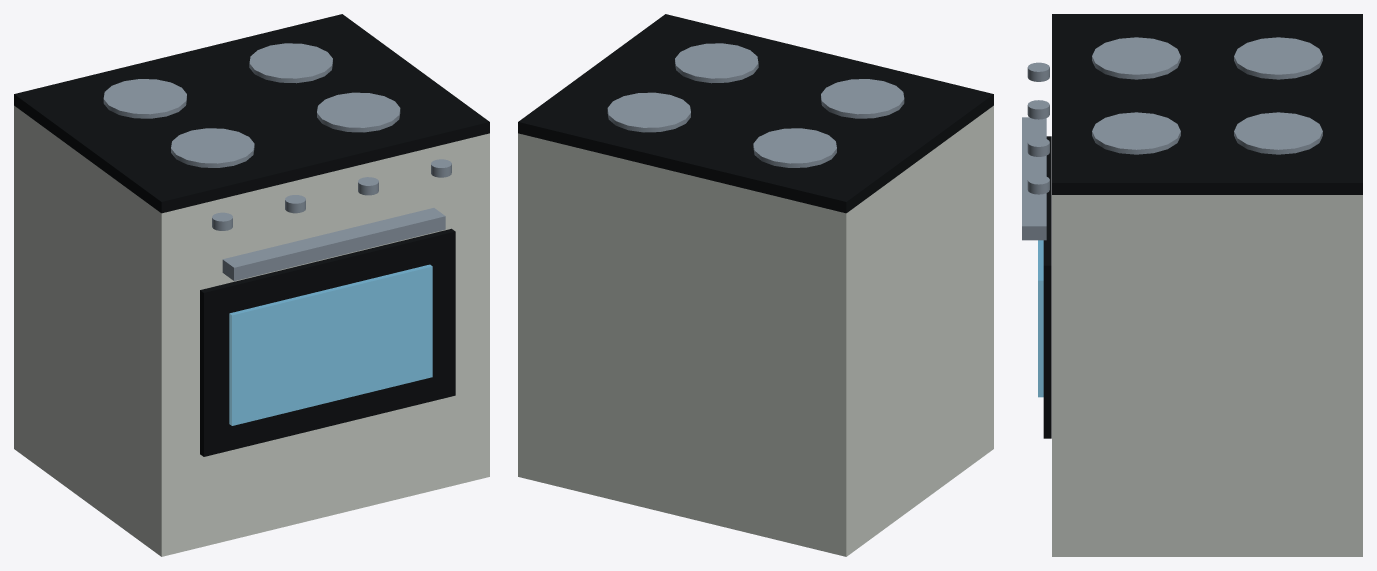
File: stove.glb
The picture shows the model from 3 angles, left to right: view 1: azimuth 30°, elevation 25°; view 2: azimuth 150°, elevation 25°; view 3: azimuth 270°, elevation 25°; orthographic projection. The views are drawn at different scales.
Visible parts, largest first — view 1: Cabinet, Hob, OvenGlass, Oven, Handle, _MeshInstance3D_4, Burner, _MeshInstance3D_2, _MeshInstance3D_3; view 2: Cabinet, Hob, _MeshInstance3D_3, _MeshInstance3D_2, Burner, _MeshInstance3D_4; view 3: Cabinet, Hob, _MeshInstance3D_3, _MeshInstance3D_4, Burner, _MeshInstance3D_2, Handle, Oven, OvenGlass.
Part boxes in pixels (box(x1,y1,x2,y2)): Cabinet: box(14, 105, 489, 556); Hob: box(14, 14, 489, 213); OvenGlass: box(229, 264, 432, 425); Oven: box(200, 228, 455, 456); Handle: box(222, 208, 445, 280); _MeshInstance3D_4: box(317, 92, 400, 132); Burner: box(103, 79, 186, 118); _MeshInstance3D_2: box(171, 128, 254, 167); _MeshInstance3D_3: box(249, 43, 332, 83); Cabinet: box(518, 105, 993, 556); Hob: box(518, 14, 993, 213); _MeshInstance3D_3: box(607, 92, 690, 132); _MeshInstance3D_2: box(821, 79, 904, 118); Burner: box(753, 128, 836, 167); _MeshInstance3D_4: box(675, 43, 758, 83); Cabinet: box(1052, 195, 1362, 556); Hob: box(1052, 14, 1362, 194); _MeshInstance3D_3: box(1234, 112, 1322, 154); _MeshInstance3D_4: box(1092, 112, 1180, 154); Burner: box(1234, 37, 1322, 79); _MeshInstance3D_2: box(1092, 37, 1180, 79); Handle: box(1022, 117, 1046, 240); Oven: box(1043, 136, 1051, 438); OvenGlass: box(1038, 240, 1043, 397).
Bounding box in the file's own units: 0.9 × 0.942 × 0.7675.
